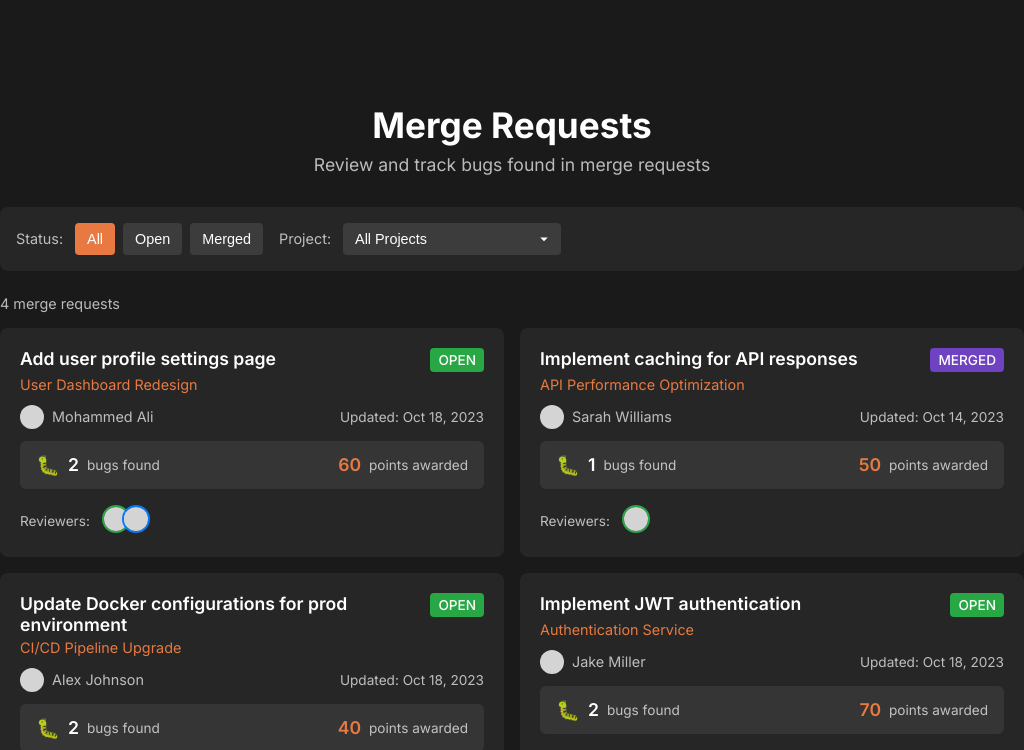
Test: MergeRequestList Component › filters merge requests by status
The image size is (1024, 750).
Expected: the text "Add user profile settings page" is shown, [20,348,276,369]
Expected: the text "Implement caching for API responses" is shown, [540,348,858,369]
Filter by Open status
Step 1. Click the button "Open" → (153, 239), box [123,223,182,255]
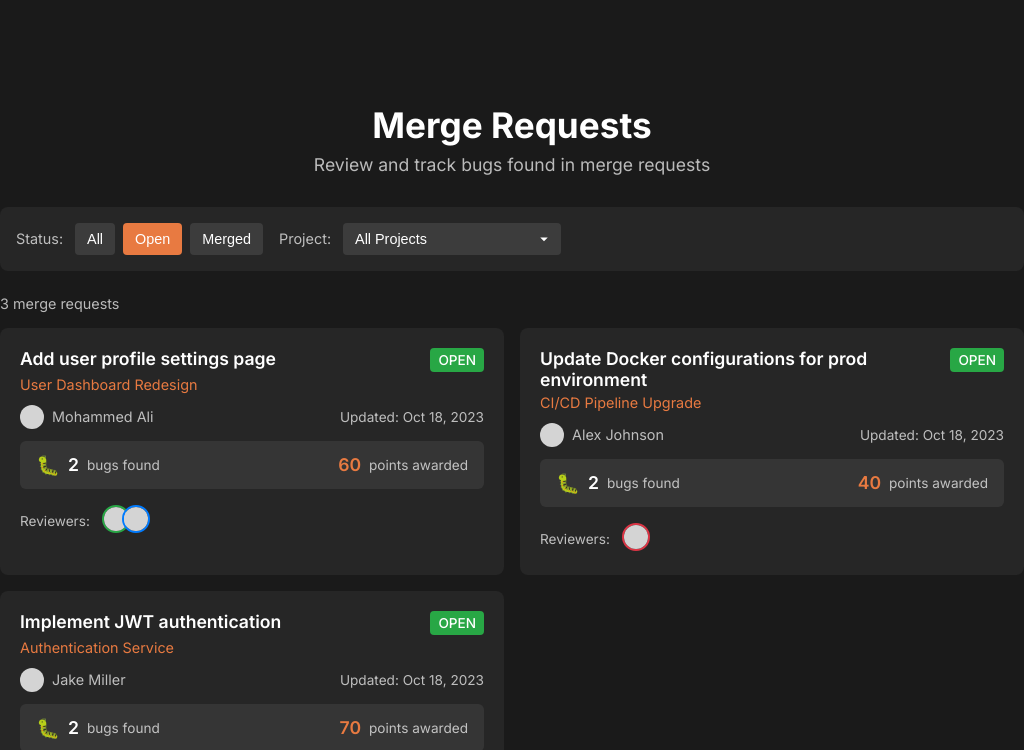
Expected: the text "Add user profile settings page" is shown, [20,348,276,369]
Result: the link "Implement caching for API responses" is gone
Filter by Merged status
Step 2. Click the button "Merged" → (227, 239), box [190,223,263,255]
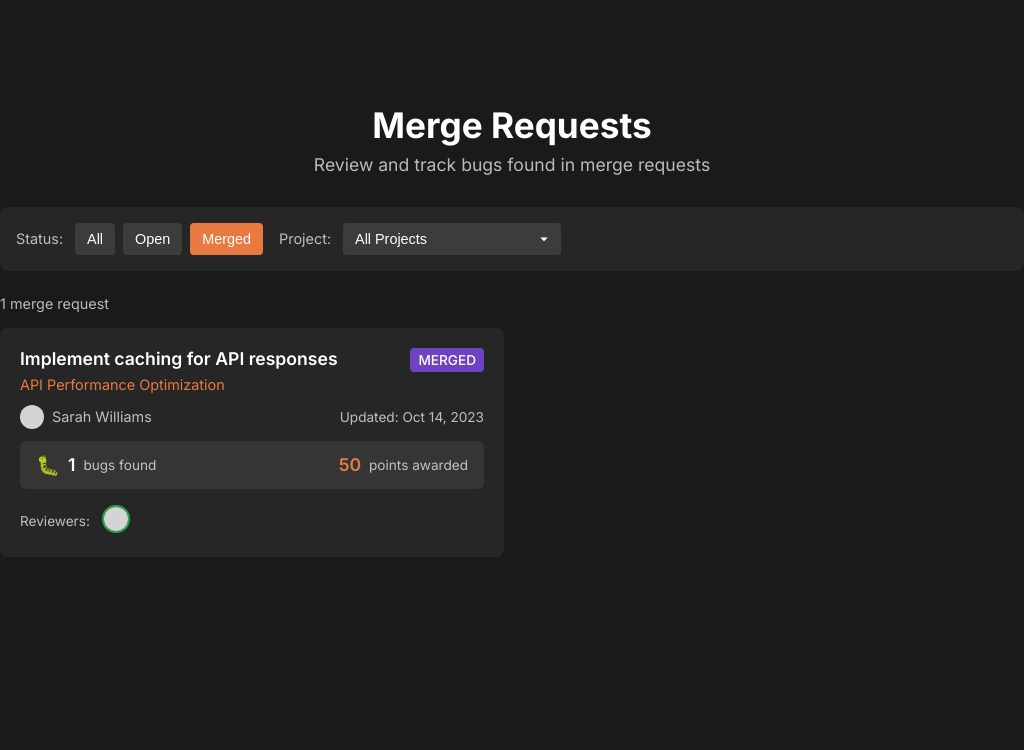
Result: the link "Add user profile settings page" is gone
Result: the text "Implement caching for API responses" is shown at [20,348,338,369]
